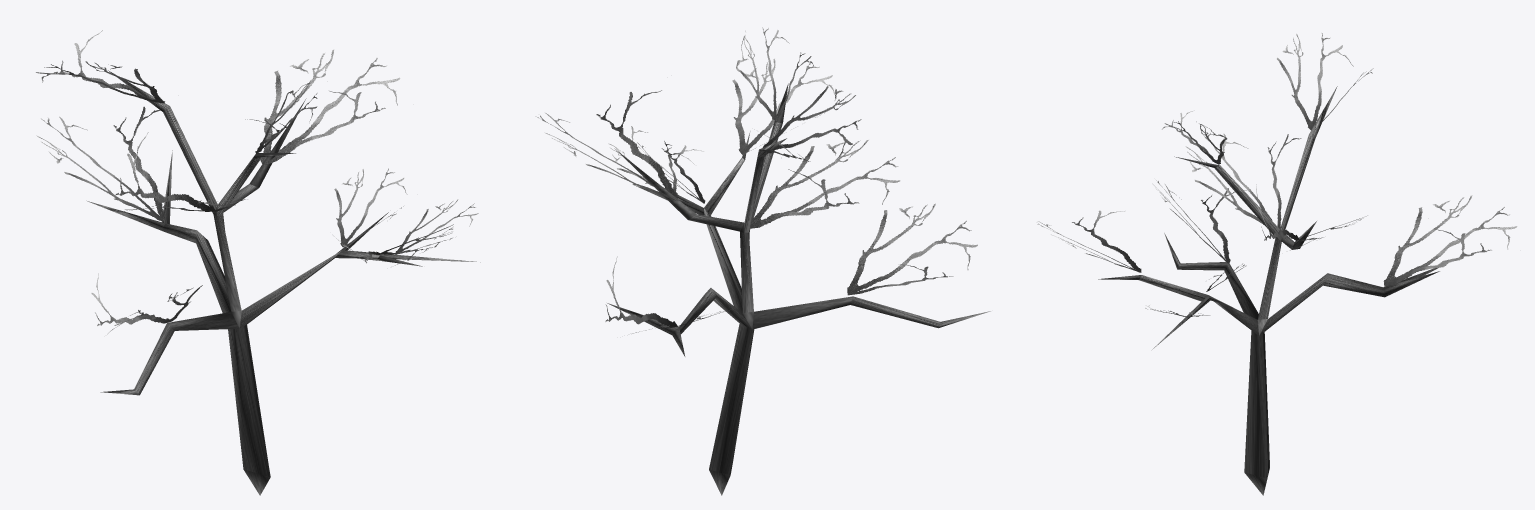
Rendered from dode_boom_2.fbx.
3 renders of one model, left to right at view 1: azimuth 30°, elevation 25°; view 2: azimuth 150°, elevation 25°; view 3: azimuth 270°, elevation 25°, orthographic. The views are drawn at different scales.
Visible parts, largest first — view 1: dode_boom_2; view 2: dode_boom_2; view 3: dode_boom_2.
Part boxes in pixels (bbox=[...]): dode_boom_2: bbox=[36, 30, 480, 495]; dode_boom_2: bbox=[535, 27, 990, 495]; dode_boom_2: bbox=[1037, 33, 1517, 495].
Bounding box in the file's own units: 2017 × 2300 × 2581.
